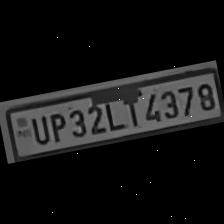2: (82, 100, 107, 136)
3: (63, 104, 88, 140), (155, 86, 180, 121)
4: (138, 88, 163, 124)
7: (173, 82, 197, 118)
8: (192, 78, 218, 112)
L: (100, 94, 124, 132)
P: (44, 109, 68, 143)
T: (118, 91, 142, 130)
U: (27, 113, 50, 146)
